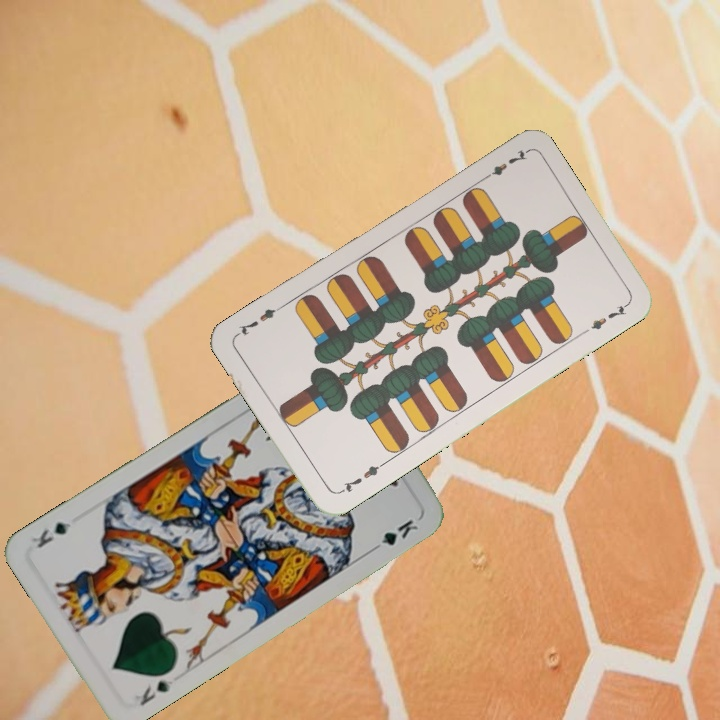E7: (334, 458, 387, 497), (477, 146, 530, 184)
GK: (135, 675, 176, 709)
